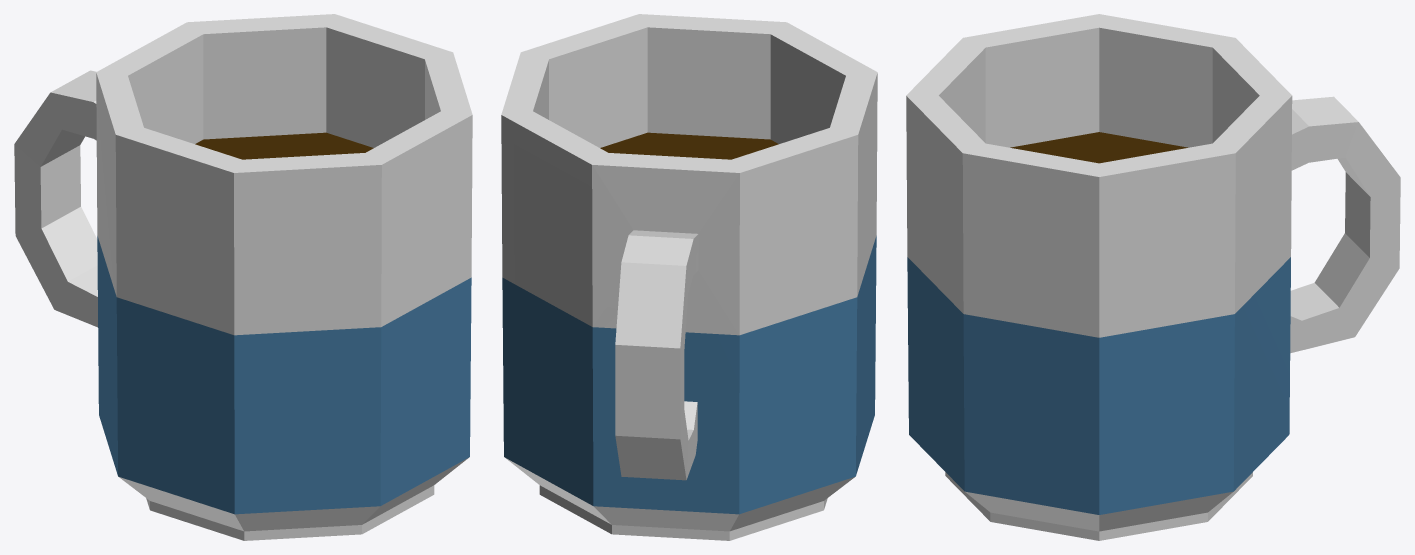
The model's file is C_Coffee_Cup_Small_1.fbx.
3 views of the same model, side by side, from view 1: azimuth 30°, elevation 25°; view 2: azimuth 150°, elevation 25°; view 3: azimuth 270°, elevation 25° (orthographic).
Parts seen in each view (by area): view 1: C_Coffee_Cup_Small_1; view 2: C_Coffee_Cup_Small_1; view 3: C_Coffee_Cup_Small_1.
Part boxes in pixels (bbox=[...]): C_Coffee_Cup_Small_1: bbox=[14, 14, 472, 540]; C_Coffee_Cup_Small_1: bbox=[501, 14, 877, 540]; C_Coffee_Cup_Small_1: bbox=[906, 14, 1400, 540].
Size of the model in its own units: 49.12 by 62.93 by 53.42.
